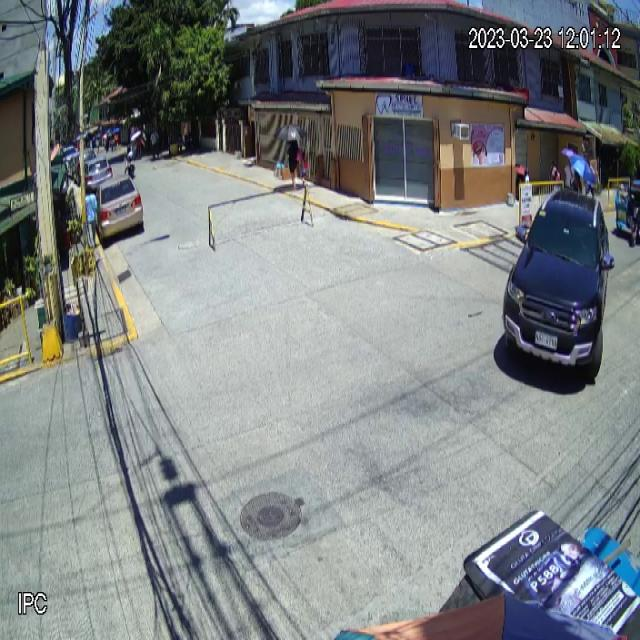Car: (502, 185, 614, 376)
